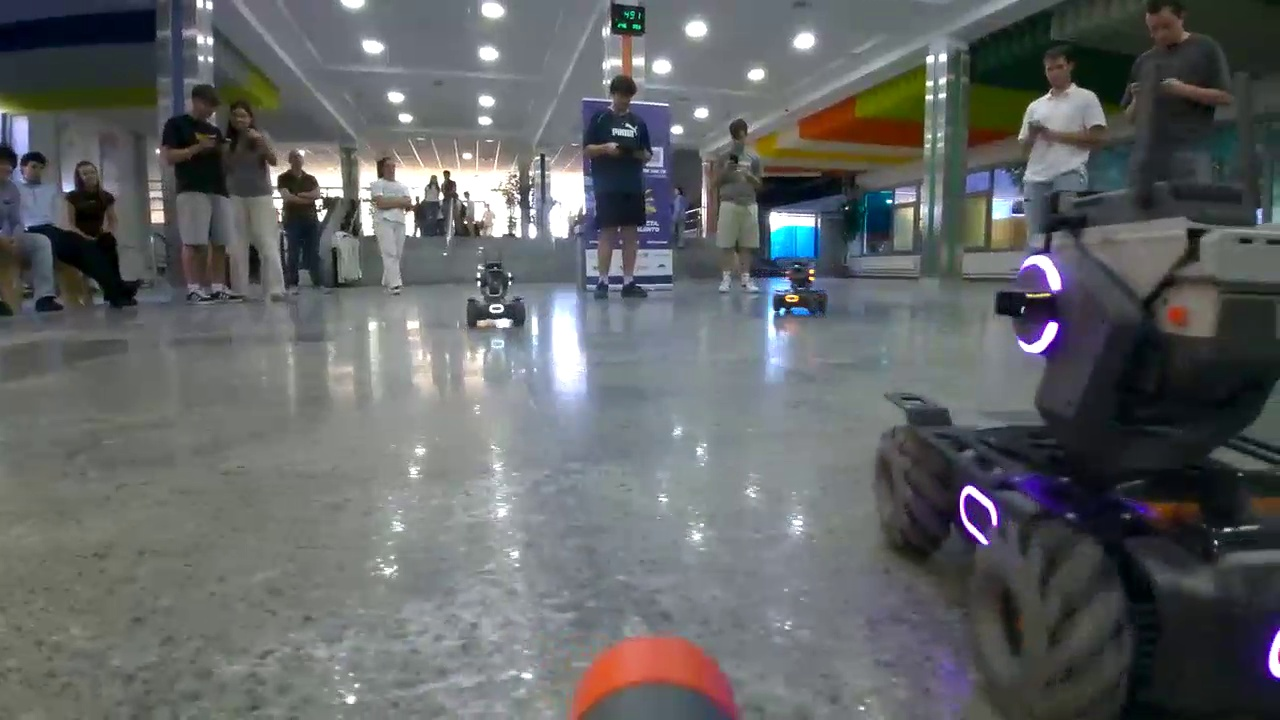robot: (868, 205, 1280, 720), (466, 263, 526, 326), (773, 263, 829, 311)
